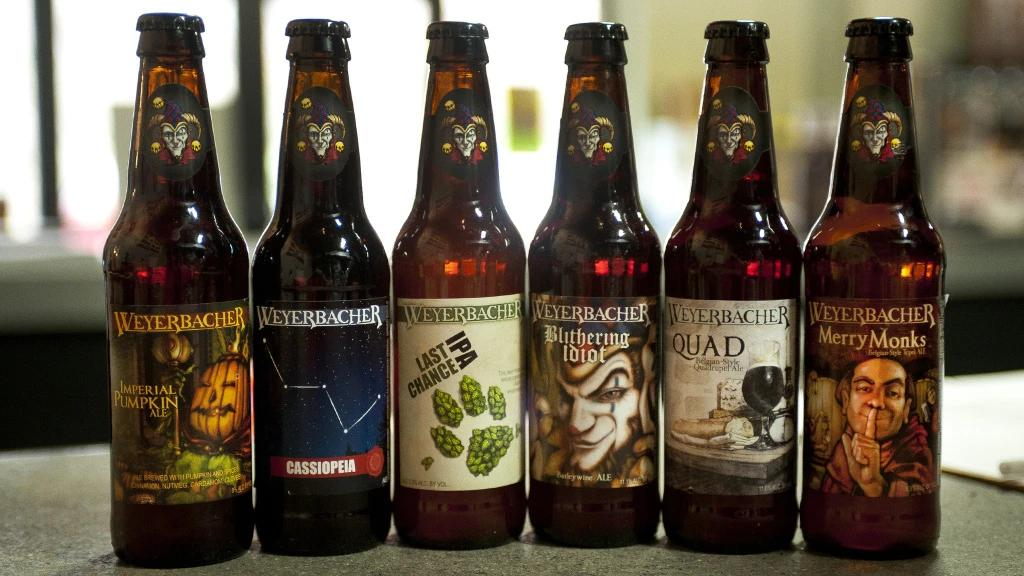glass: (99, 12, 254, 565), (804, 17, 947, 563), (250, 16, 392, 554), (386, 26, 530, 543), (658, 23, 799, 549), (531, 16, 662, 552)
